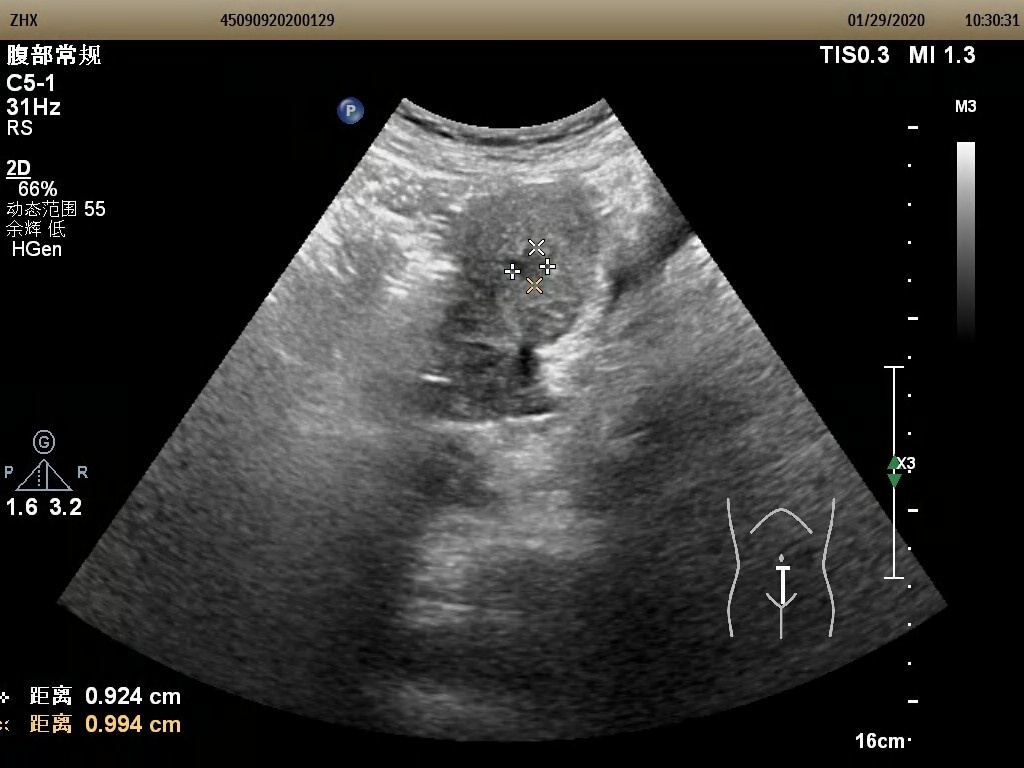肌瘤: (516, 249, 549, 278)
